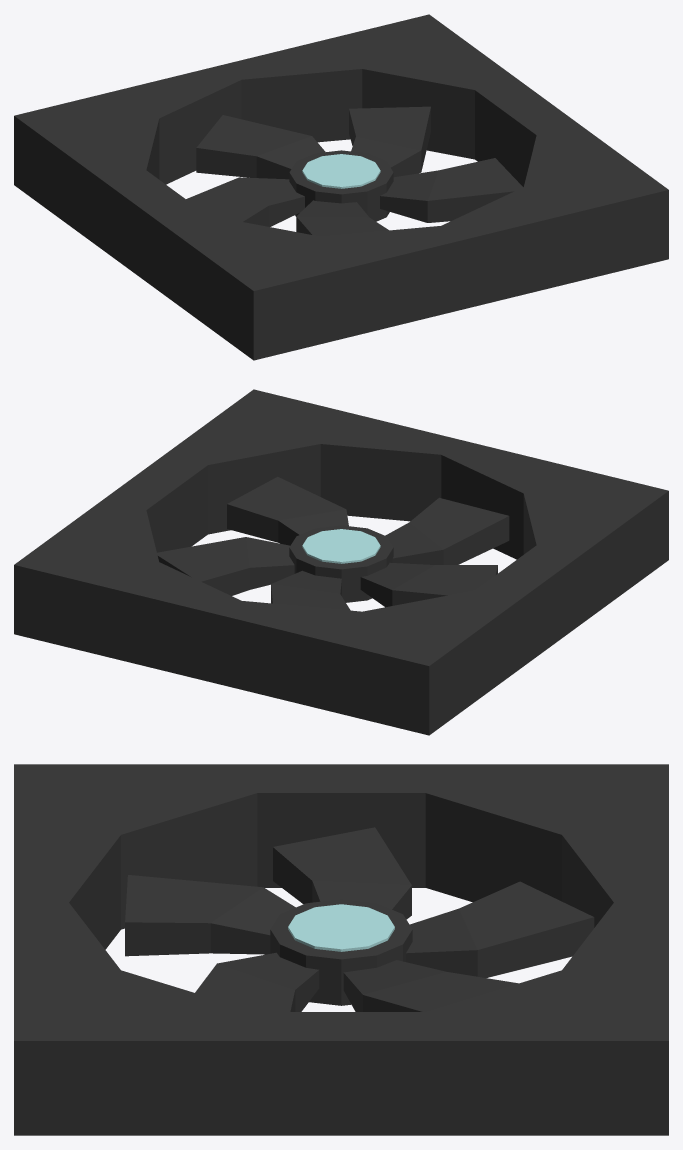
The model's file is fan.fbx.
3 renders of one model, top to bottom at view 1: azimuth 30°, elevation 25°; view 2: azimuth 150°, elevation 25°; view 3: azimuth 270°, elevation 25°, orthographic. The views are drawn at different scales.
Parts seen in each view (by area): view 1: Cube, Cube.001, Cube.003, Cube.002, Cube.004, Cylinder, Cube.005, Cylinder.001; view 2: Cube, Cube.005, Cube.002, Cube.001, Cube.004, Cylinder, Cube.003, Cylinder.001; view 3: Cube, Cube.003, Cube.005, Cube.004, Cube.002, Cylinder, Cube.001, Cylinder.001.
Part boxes in pixels (box(x1,y1,x2,y2)): Cube: box(14, 14, 668, 360); Cube.001: box(380, 158, 522, 222); Cube.003: box(196, 115, 325, 179); Cube.002: box(349, 106, 430, 177); Cube.004: box(186, 177, 304, 226); Cylinder: box(289, 150, 393, 221); Cube.005: box(296, 200, 388, 236); Cylinder.001: box(302, 154, 380, 188); Cube: box(14, 389, 668, 735); Cube.005: box(385, 497, 509, 564); Cube.002: box(157, 537, 294, 595); Cube.001: box(227, 477, 348, 545); Cube.004: box(360, 563, 497, 607); Cylinder: box(289, 525, 393, 602); Cube.003: box(271, 570, 350, 610); Cylinder.001: box(302, 529, 380, 563); Cube: box(14, 764, 668, 1135); Cube.003: box(406, 881, 594, 977); Cube.005: box(125, 875, 295, 956); Cube.004: box(273, 827, 411, 919); Cube.002: box(343, 960, 518, 1011); Cylinder: box(270, 899, 412, 1005); Cube.001: box(195, 952, 319, 1011); Cylinder.001: box(288, 904, 394, 951).
Size of the model in its own units: 31.97 by 5.11 by 31.97.
